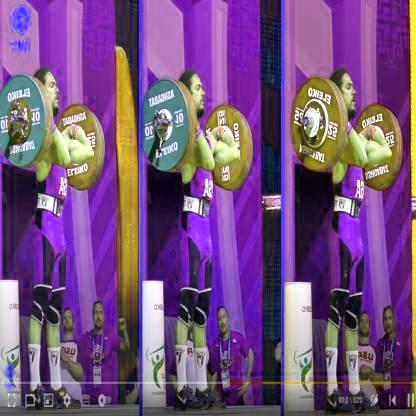Barbell: (150, 117, 158, 132), (8, 112, 15, 128), (301, 115, 309, 128)
